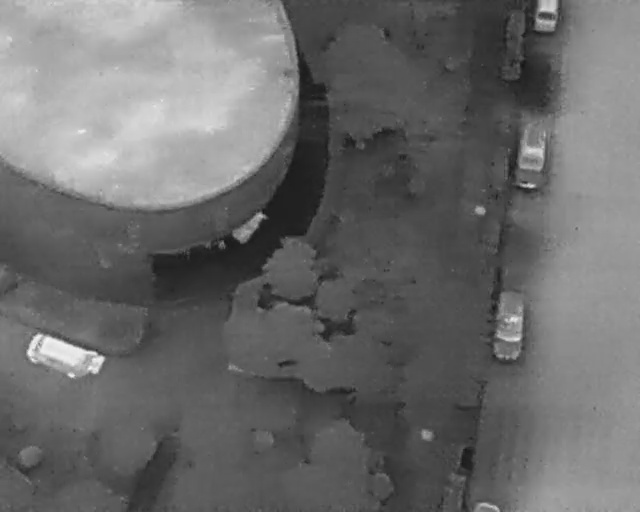Car: (21, 329, 107, 386), (511, 109, 553, 192), (490, 287, 528, 363), (536, 1, 559, 31)
